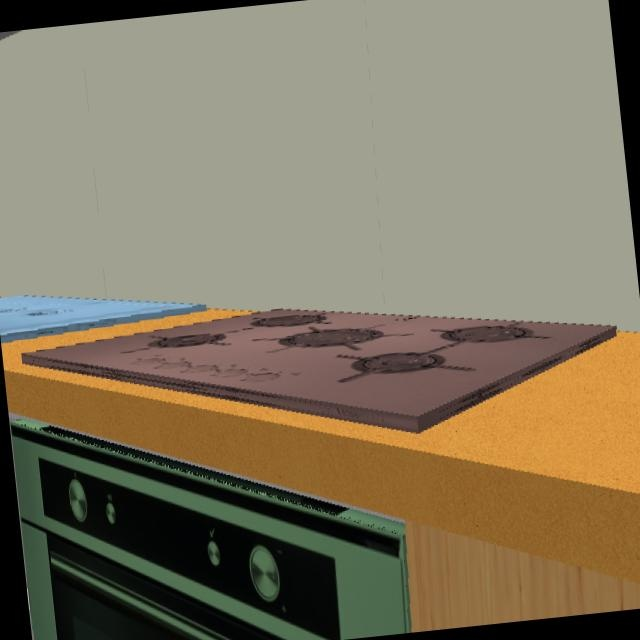countertop: (1, 316, 640, 632)
oven: (9, 421, 412, 640)
sink: (0, 297, 186, 343)
stove: (1, 308, 619, 435)
